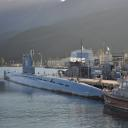submarine: (4, 55, 106, 102)
